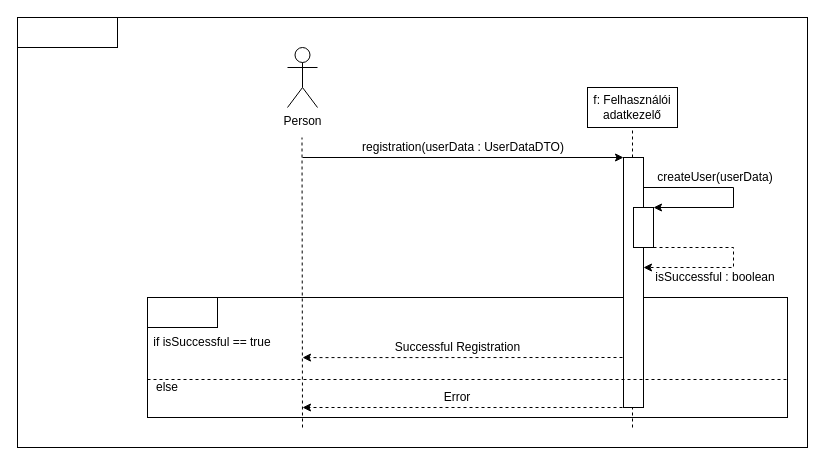
The diagram is 825 pixels wide and 465 high, and some of its shapes have lost their labels. The centre of each missing label's shape, as x and y in pixels:
"alt" goes at pixel 182 312.
"registration" goes at pixel 67 32.
